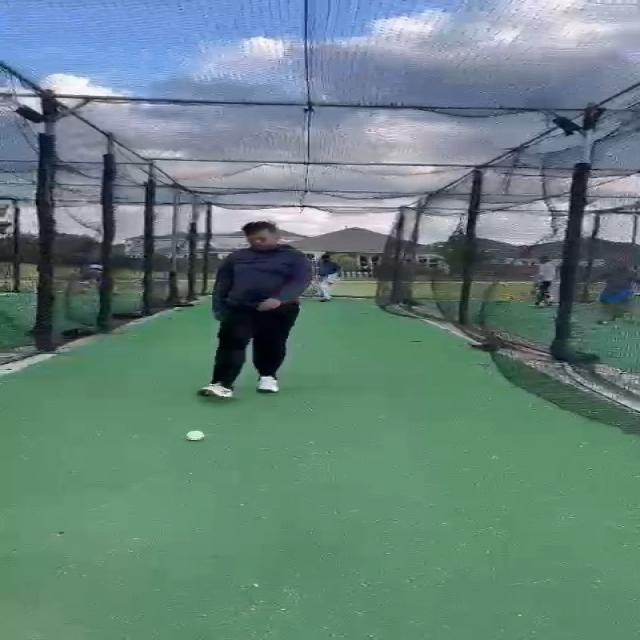batsman: (310, 252, 345, 303)
